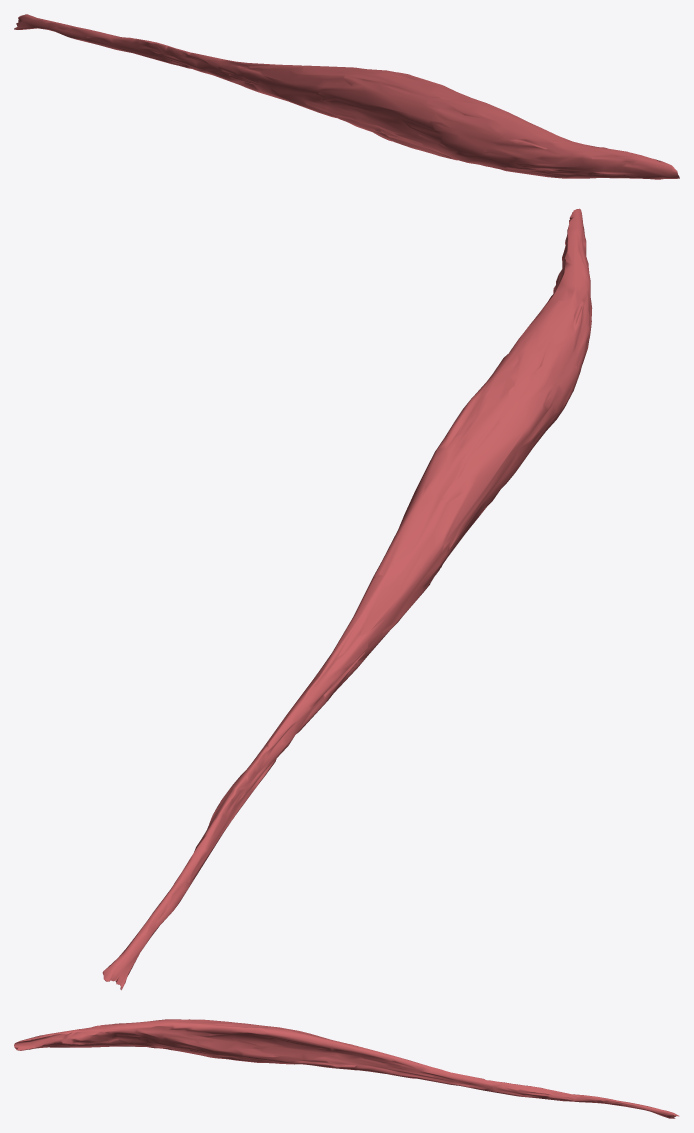
The picture shows the model from 3 angles, top to bottom: view 1: azimuth 30°, elevation 25°; view 2: azimuth 150°, elevation 25°; view 3: azimuth 270°, elevation 25°; orthographic projection. The views are drawn at different scales.
Parts seen in each view (by area): view 1: 右侧桡侧腕长伸肌; view 2: 右侧桡侧腕长伸肌; view 3: 右侧桡侧腕长伸肌.
Part boxes in pixels (x1=…): 右侧桡侧腕长伸肌: x1=14, y1=14, x2=679, y2=179; 右侧桡侧腕长伸肌: x1=102, y1=208, x2=592, y2=990; 右侧桡侧腕长伸肌: x1=14, y1=1019, x2=679, y2=1118.
Size of the model in its own units: 0.088 by 0.1035 by 0.4908.
